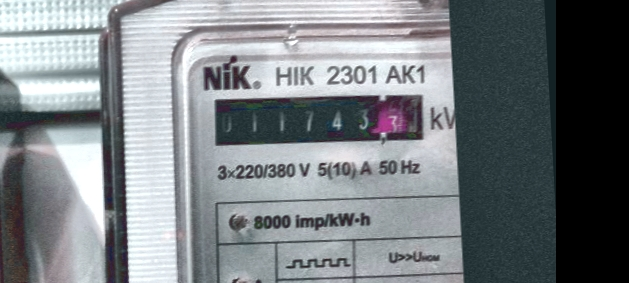0: (218, 105, 233, 133)
1: (245, 104, 260, 132), (273, 103, 287, 132)
3: (354, 103, 369, 130), (383, 111, 399, 133)
4: (328, 105, 343, 131)
7: (300, 105, 315, 130)
screen: (204, 80, 433, 156)
